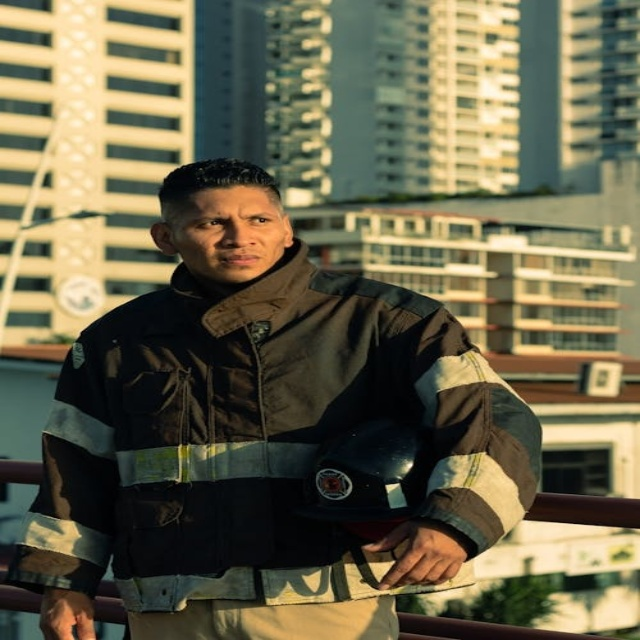Sin_gafas: (183, 210, 275, 231)
Sin_guantes: (353, 515, 465, 595), (41, 587, 101, 639)
Sin_mascara: (207, 249, 264, 275)
